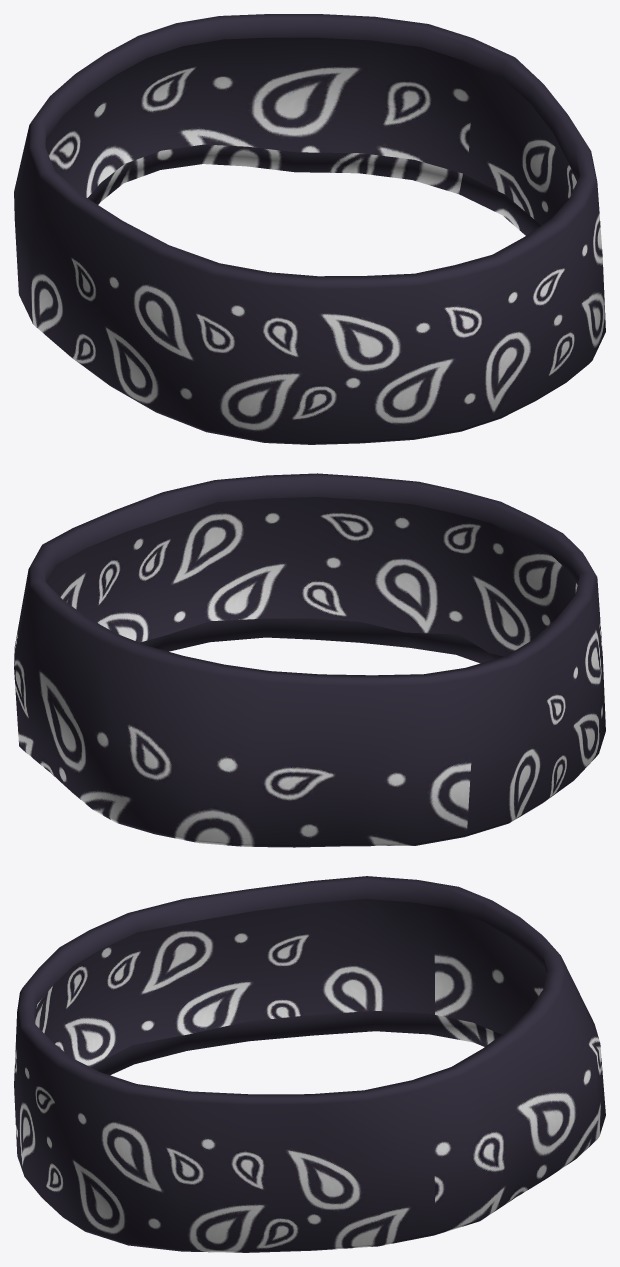
The model's file is _headwear_039.fbx.
3 views of the same model, one above another, from view 1: azimuth 30°, elevation 25°; view 2: azimuth 150°, elevation 25°; view 3: azimuth 270°, elevation 25° (orthographic). The views are drawn at different scales.
Visible parts, largest first — view 1: f_headwear_039; view 2: f_headwear_039; view 3: f_headwear_039.
Part boxes in pixels (box(x1,y1,x2,y2)): f_headwear_039: box(14, 14, 605, 444); f_headwear_039: box(14, 473, 605, 847); f_headwear_039: box(14, 876, 605, 1252).
Bounding box in the file's own units: 16.57 × 6.57 × 18.5.
